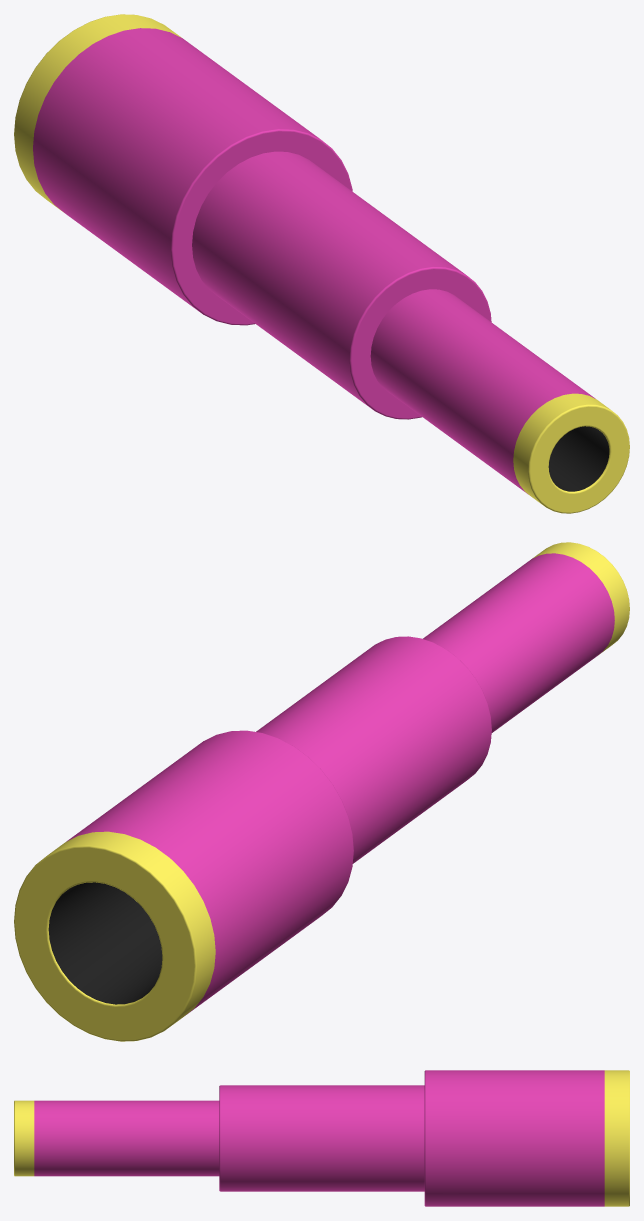
File: periscope.fbx
3 renders of one model, top to bottom at view 1: azimuth 30°, elevation 25°; view 2: azimuth 150°, elevation 25°; view 3: azimuth 270°, elevation 25°, orthographic. The views are drawn at different scales.
Parts seen in each view (by area): view 1: Periscope; view 2: Periscope; view 3: Periscope.
Boxes of the visible parts, left/top/right/bottom form: Periscope: left=14, top=14, right=629, bottom=513; Periscope: left=14, top=542, right=629, bottom=1041; Periscope: left=14, top=1070, right=629, bottom=1206.
Size of the model in its own units: 120 by 120 by 540.
